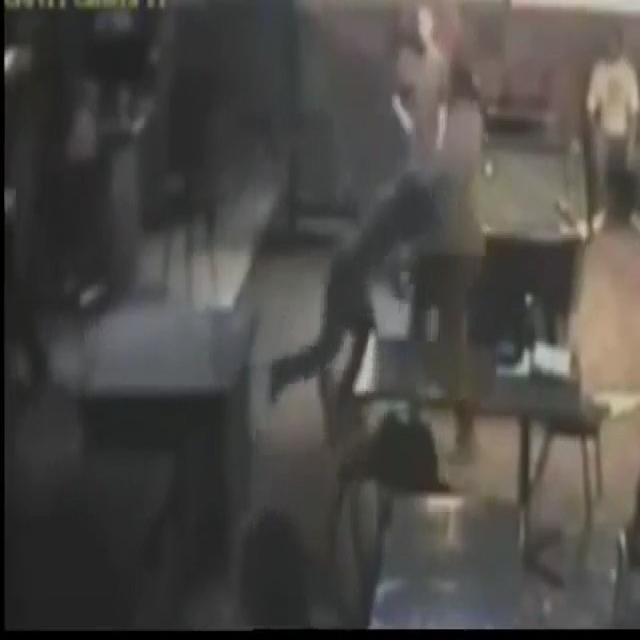fight: (260, 167, 454, 449)
